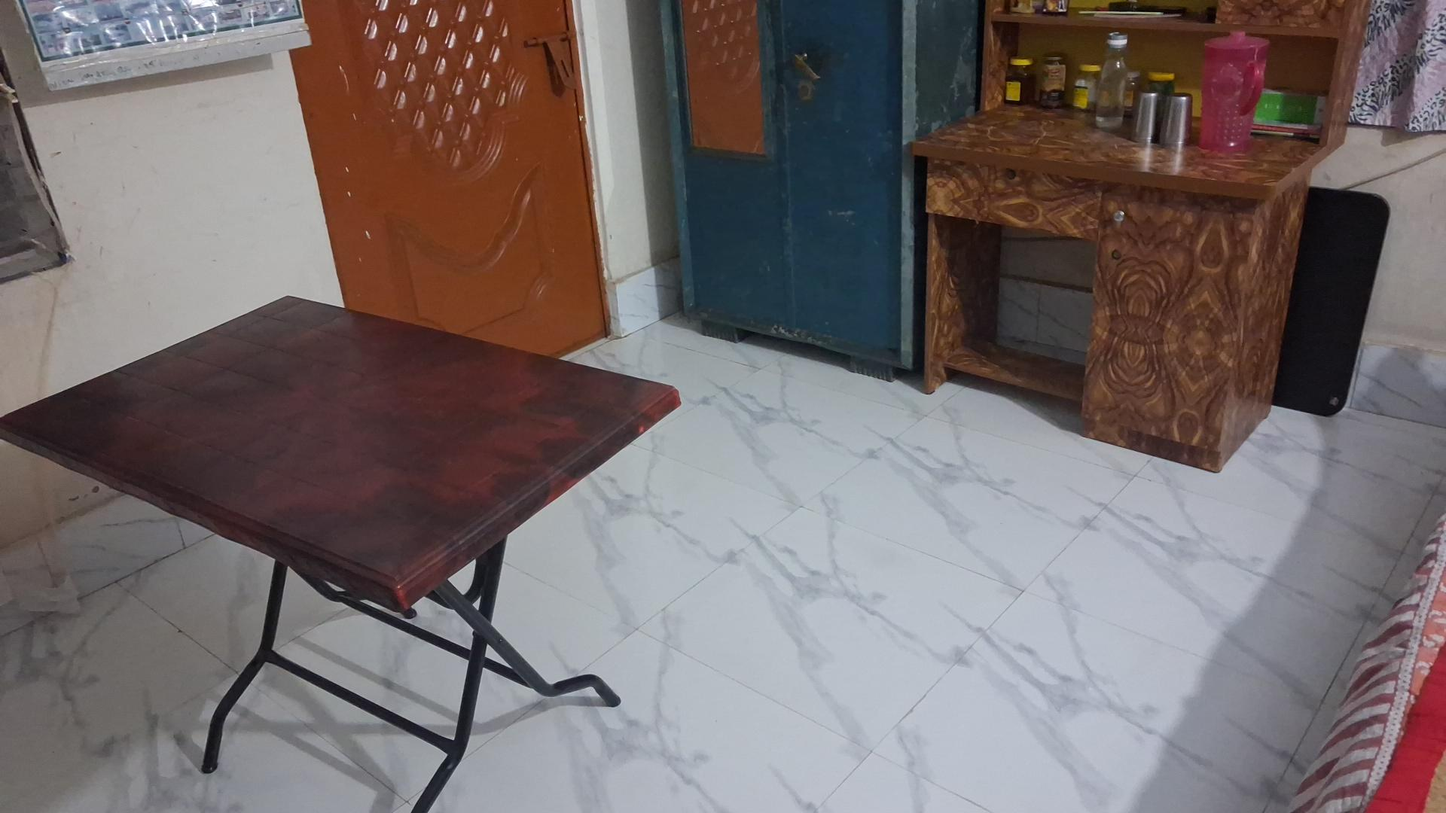Bottle: (1094, 31, 1131, 131)
Box: (1265, 84, 1321, 127)
Door: (284, 36, 612, 341)
Drawer: (924, 154, 1103, 246)
Glass: (1160, 97, 1197, 152), (1136, 93, 1161, 150)
Jar: (1002, 56, 1035, 104), (1040, 55, 1065, 106), (1076, 65, 1101, 114)
Jug: (1203, 28, 1264, 148)
Table: (5, 287, 676, 808)
